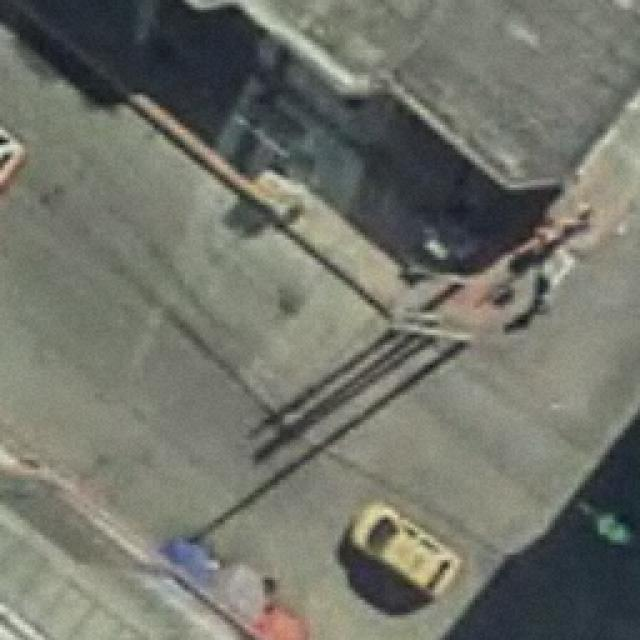vendedor_ambulante: (205, 562, 273, 618), (164, 534, 222, 583), (243, 606, 319, 640)
